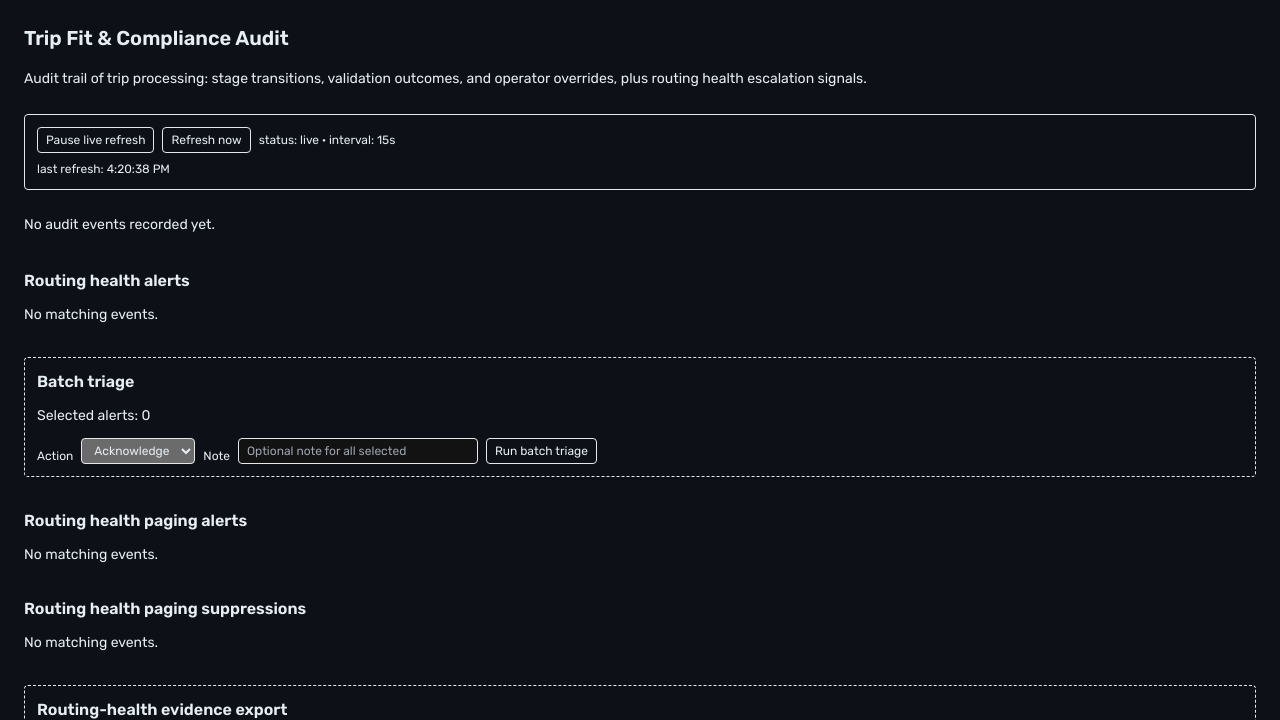
AuditPage › supports pause/resume live refresh controls
This screenshot has width=1280, height=720.
Click the button "Pause live refresh" at (96, 140), box x1=37 y1=127 x2=154 y2=153
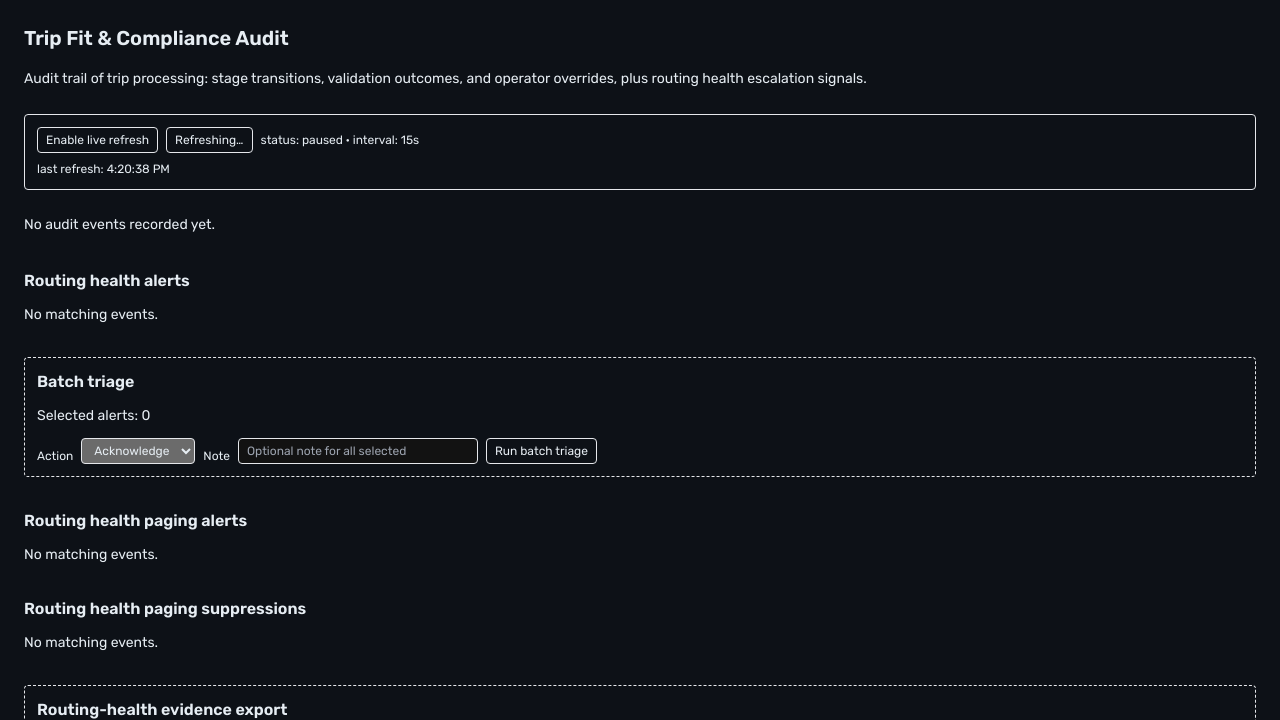
Expected: the button "Enable live refresh" is shown
Click the button "Enable live refresh" at (98, 140), box x1=37 y1=127 x2=158 y2=153
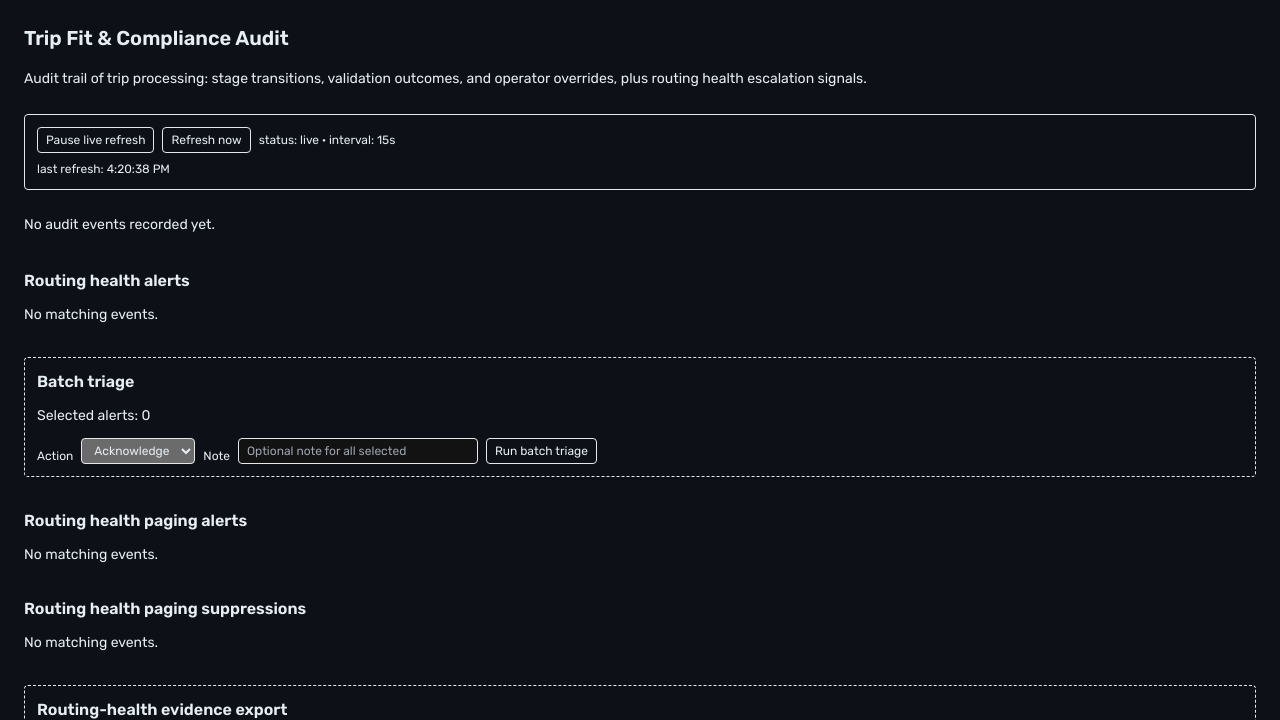
Expected: the button "Pause live refresh" is shown, x1=37 y1=127 x2=154 y2=153
